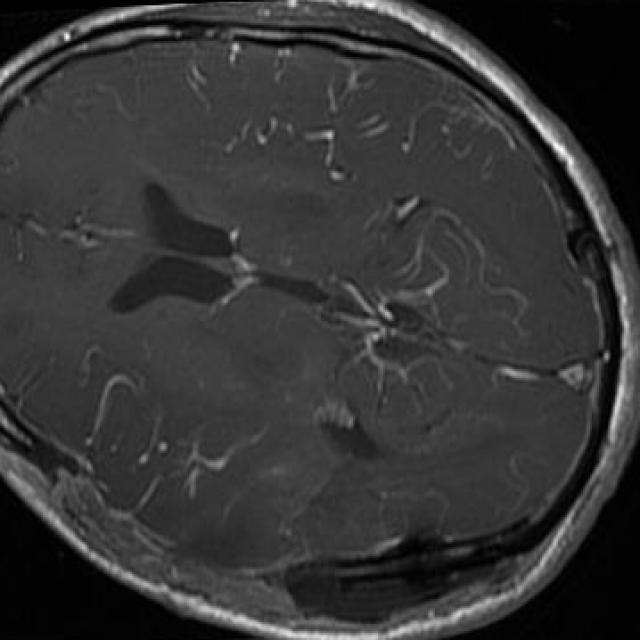glioma: (285, 487, 531, 622)
